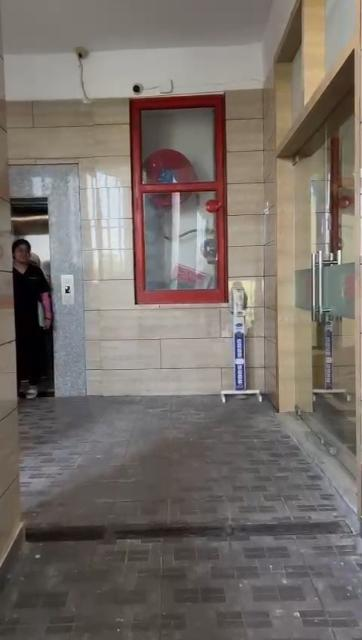door: (292, 156, 362, 430)
floor: (0, 406, 358, 640)
moving-obj: (7, 224, 61, 406)
wall: (85, 168, 131, 392), (230, 95, 286, 277), (134, 307, 220, 391), (8, 106, 124, 160)
